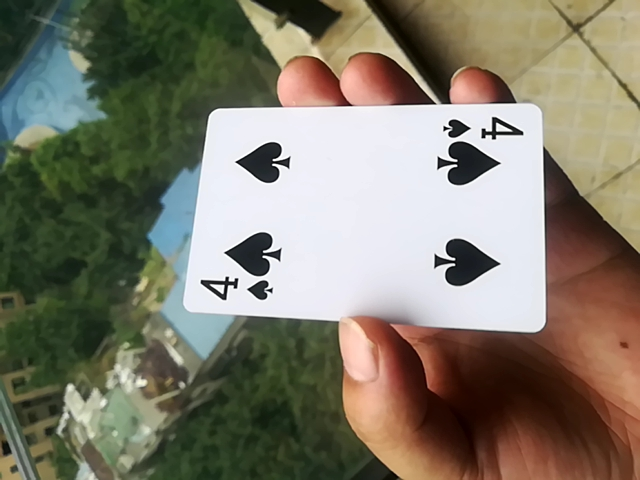ht 4: (170, 100, 553, 338)
